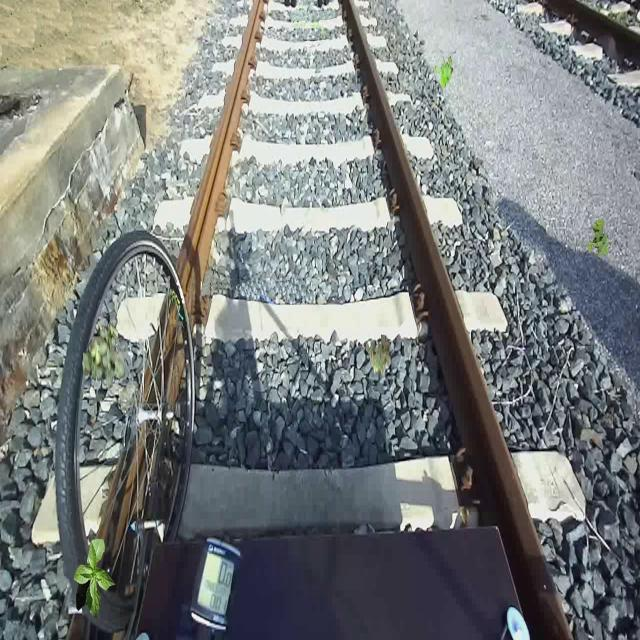Plant: (74, 539, 116, 619), (82, 322, 126, 388), (366, 334, 392, 376), (587, 218, 611, 259), (433, 56, 454, 89)
